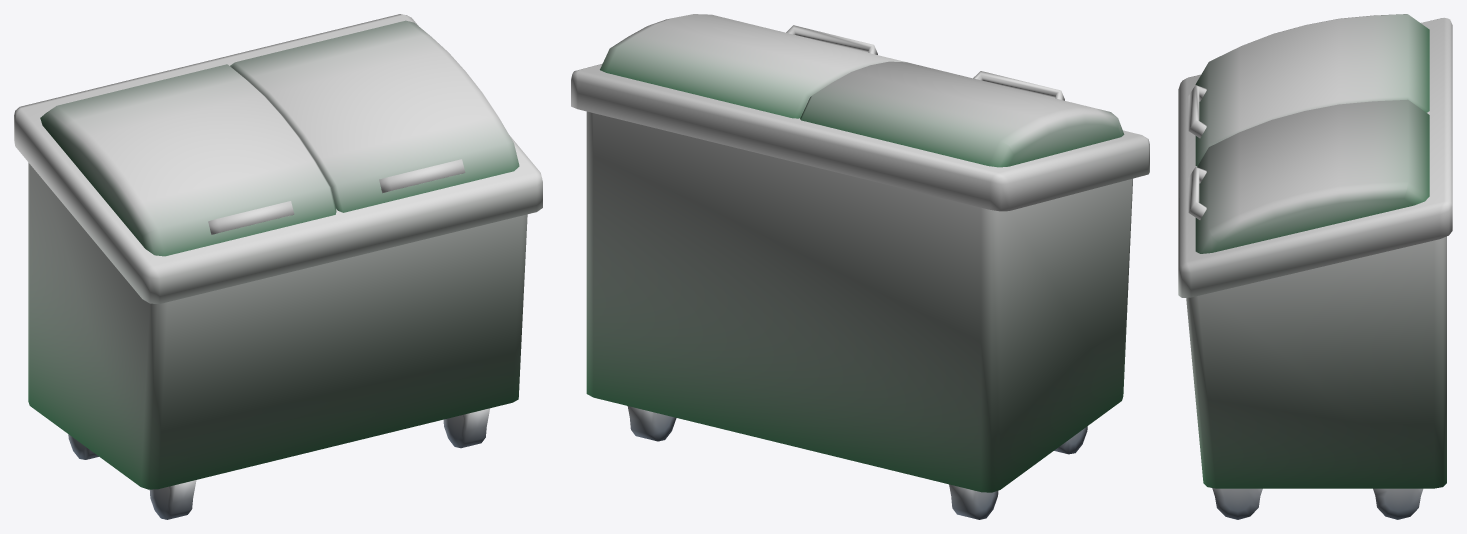
File: Prop_002.fbx
3 renders of one model, left to right at view 1: azimuth 30°, elevation 25°; view 2: azimuth 150°, elevation 25°; view 3: azimuth 270°, elevation 25°, orthographic. The views are drawn at different scales.
Visible parts, largest first — view 1: Prop_002; view 2: Prop_002; view 3: Prop_002.
Boxes of the visible parts, left/top/right/bottom form: Prop_002: left=14, top=14, right=542, bottom=519; Prop_002: left=571, top=14, right=1149, bottom=519; Prop_002: left=1178, top=14, right=1452, bottom=519.
Size of the model in its own units: 267 by 162 by 226.
